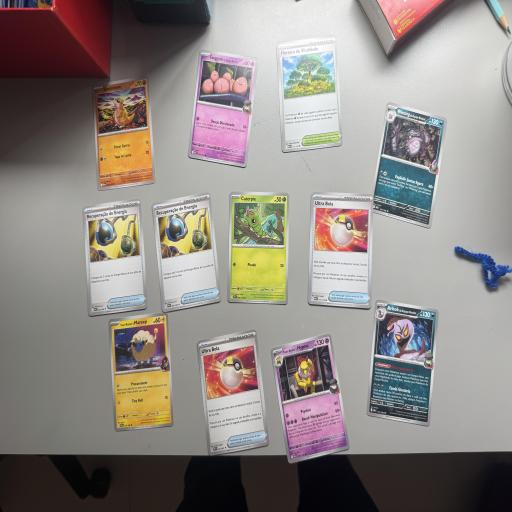card: (269, 332, 351, 464), (372, 102, 448, 229), (196, 328, 270, 457), (366, 299, 439, 427), (151, 192, 222, 313), (188, 49, 259, 168), (82, 197, 148, 317), (108, 312, 174, 431), (276, 36, 343, 153), (308, 192, 374, 309), (92, 76, 156, 191), (228, 191, 290, 305)
